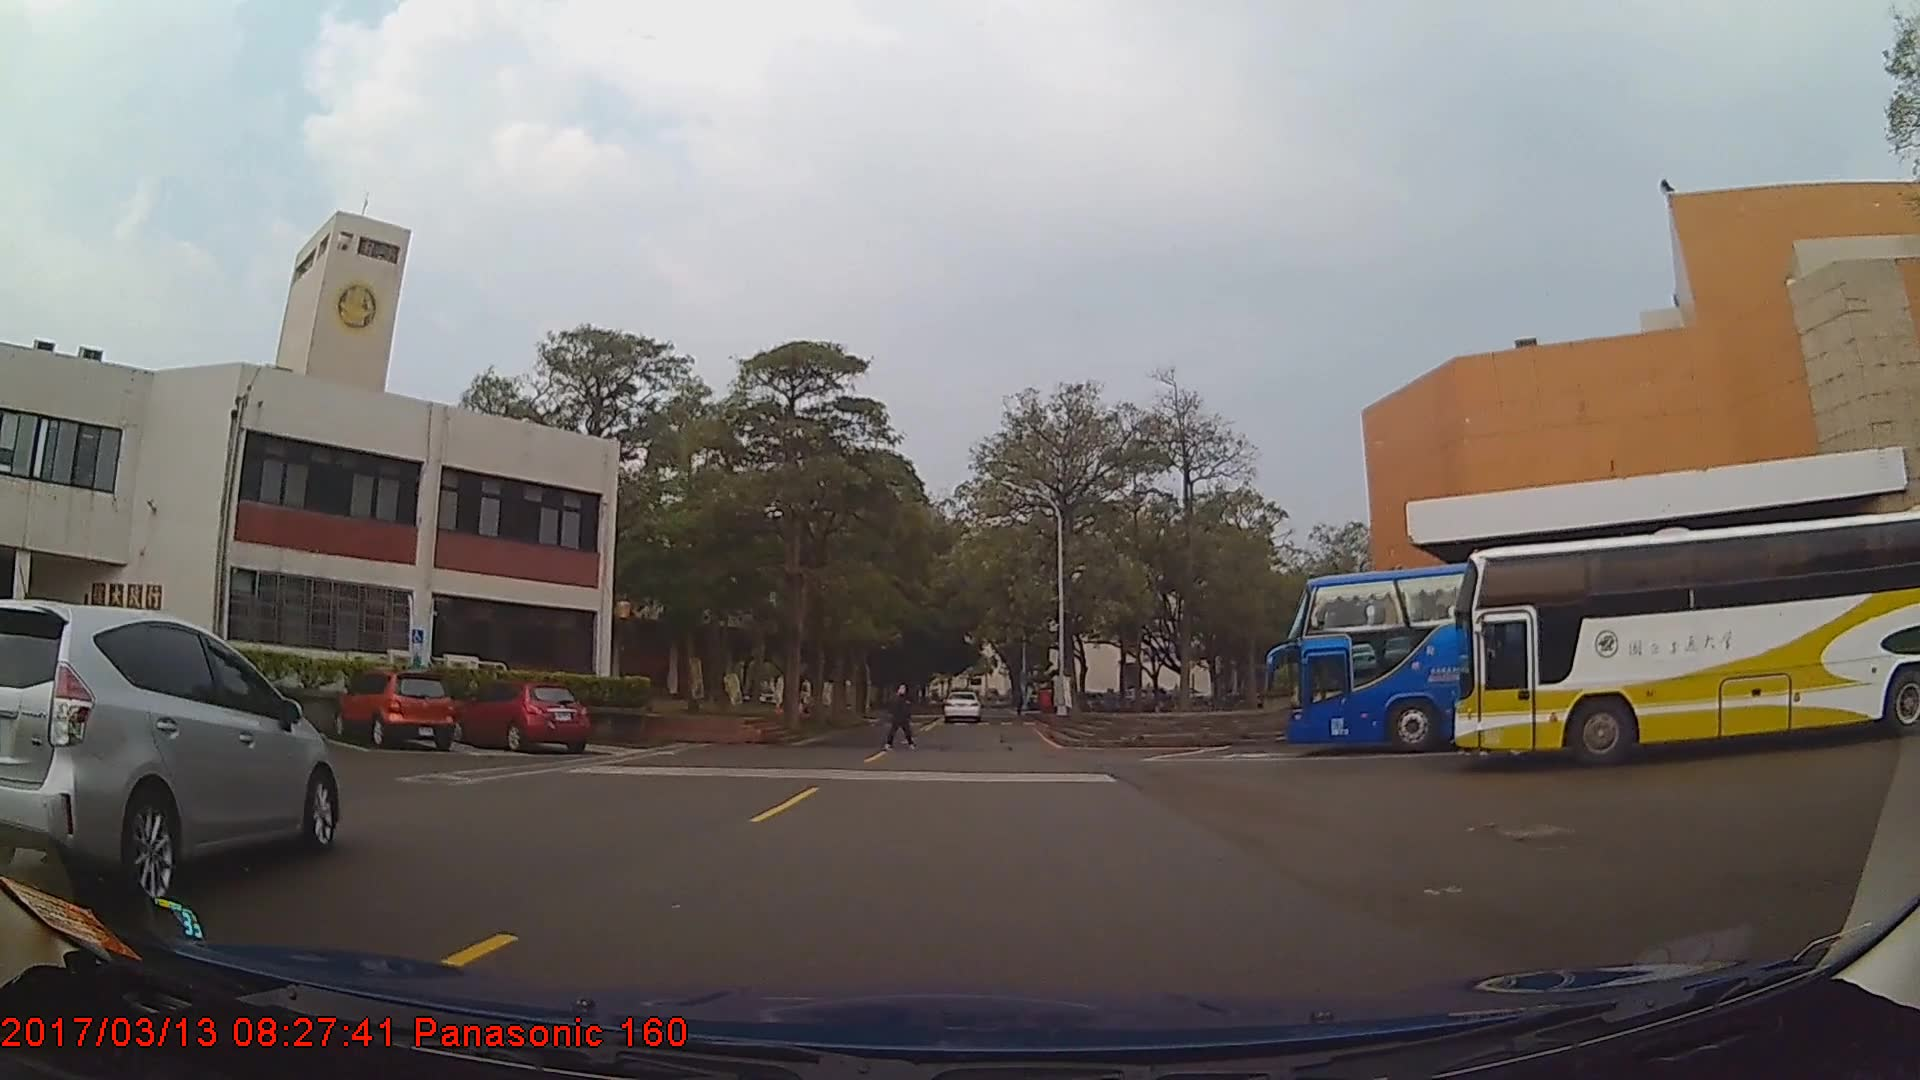pedestrian: (890, 681, 915, 750)
vehicle: (1290, 550, 1920, 756), (1456, 507, 1920, 767), (0, 596, 338, 910), (452, 677, 592, 752), (334, 669, 455, 748), (944, 687, 980, 721)
